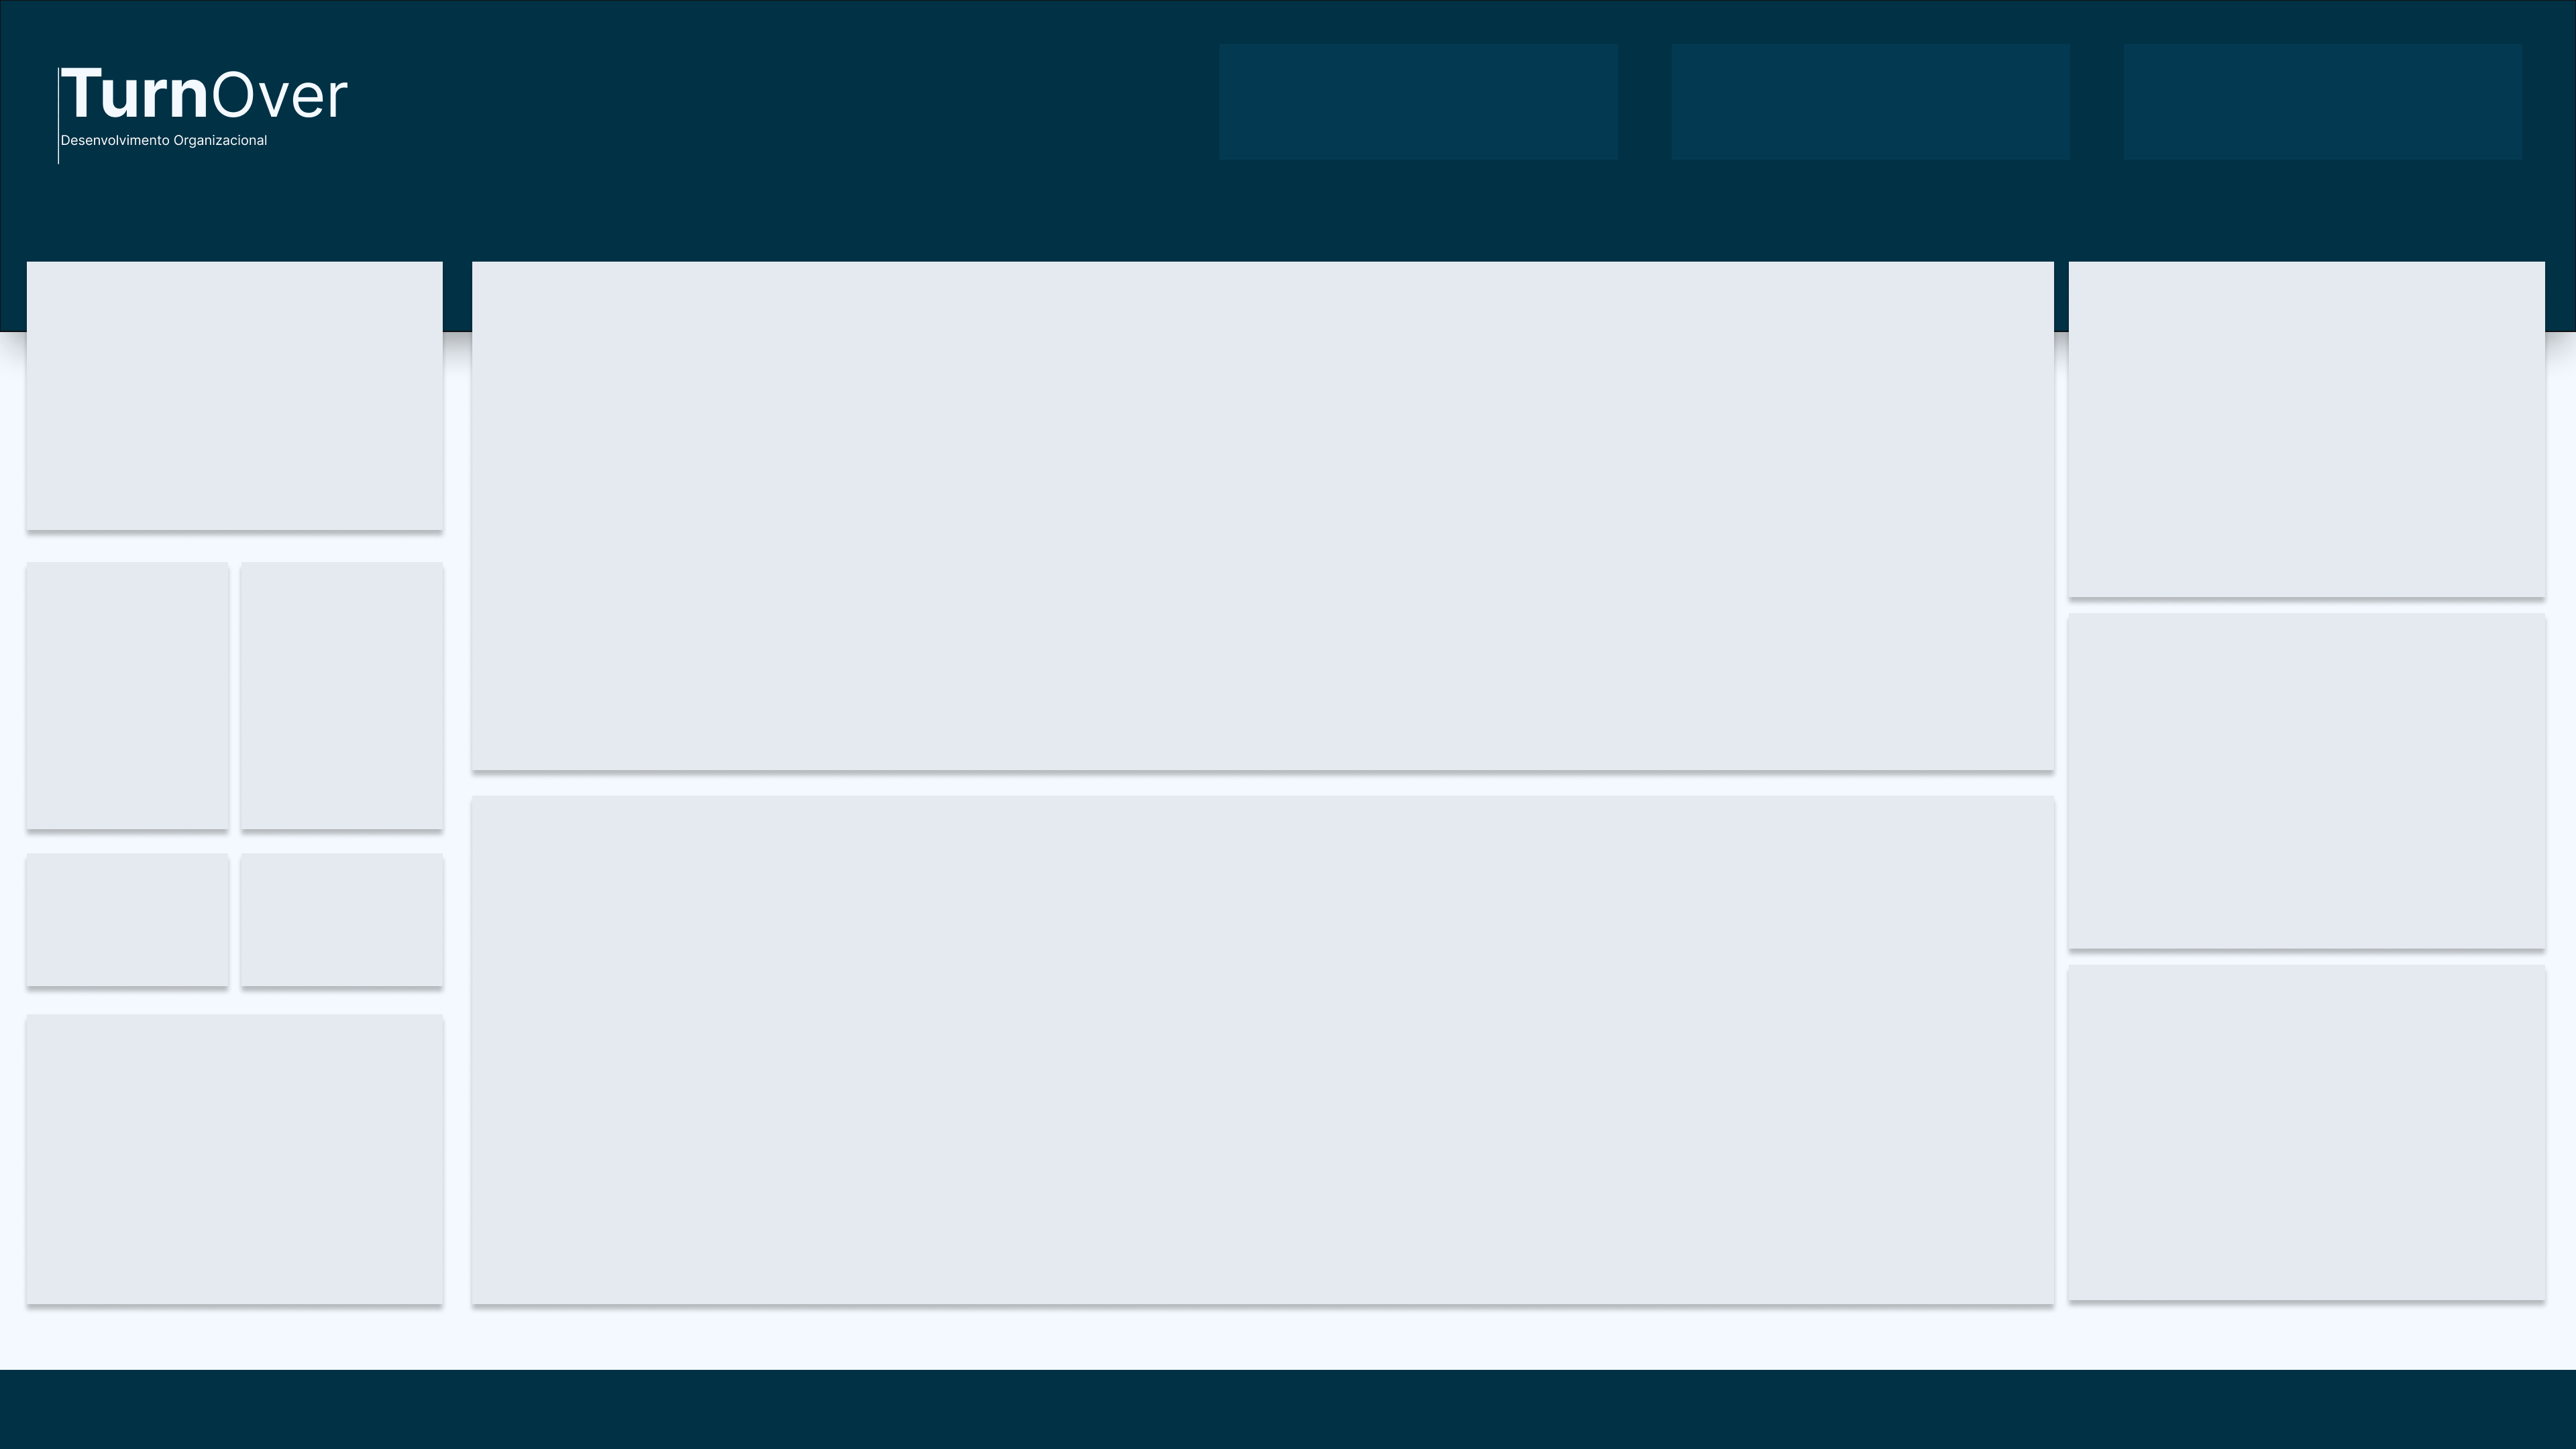

The dashboard page shown, as its layout file describes it:
{"tool":"powerbi","page":{"name":"TurnOver","canvas":[1920,1080],"ordinal":1},"visuals":[{"type":"image","box":[1560,279,304,144],"z":0},{"type":"donutChart","title":"Desligados por Gênero","fields":{"Category":["Base TurnOver.Gênero"],"Y":["Medidas.Side Total Desligados"]},"box":[1536,208,352,240],"z":1000},{"type":"card","title":"HeadCount","fields":{"Values":["Medidas.HeadCount"]},"box":[24,208,296,160],"z":2000},{"type":"card","title":"Contratações Ano","fields":{"Values":["Medidas.Side Total Contratações"]},"box":[32,642,128,90],"z":3000},{"type":"lineClusteredColumnComboChart","title":"Quantidade de Desligados, Contratados e Turn Over no Período","fields":{"Y2":["Medidas.TurnOver Geral Travado","Medidas.TurnOver Geral"],"Y":["Medidas.Total_Desligados","Medidas.Total_Contratações"],"Category":["dCalendário.Ordem","dCalendário.NmMeses"]},"box":[352,208,1184,368],"z":4000},{"type":"funnel","title":"Desligados por Faixa Etária","fields":{"Category":["Base TurnOver.Faixa Etária"],"Y":["Medidas.Side Total Desligados"]},"box":[1552,464,336,240],"z":6000},{"type":"slicer","fields":{"Values":["Base TurnOver.Setor"]},"box":[1250.4,32,288,80],"z":7000},{"type":"slicer","fields":{"Values":["Base TurnOver.Tipo Liderança"]},"box":[1586.4,32,288,80],"z":8000},{"type":"gauge","title":"TurnOver","fields":{"Y":["Medidas.Main TurnOver"]},"box":[32,768,288,192],"z":9000},{"type":"lineStackedColumnComboChart","title":"Tipos de Desligamentos e Taxa de Desligamento no Período","fields":{"Category":["dCalendário.Ordem","dCalendário.NmMeses"],"Y":["Medidas.Desligamentos Involuntário","Medidas.Desligamentos Voluntários"],"Y2":["Medidas.Taxa de Desligados"]},"box":[352,595,1176,368],"z":10000},{"type":"clusteredBarChart","title":"Desligados por Faixa Tempo de Casa","fields":{"Category":["Base TurnOver.Faixa Tempo de Casa"],"Y":["Medidas.Side Total Desligados"]},"box":[1552,720,336,240],"z":11000},{"type":"actionButton","box":[16,32,256,96],"z":12000},{"type":"card","title":"Contratações","fields":{"Values":["Medidas.Main Total Contratações"]},"box":[16,448,160,160],"z":13000},{"type":"card","title":"Desligamentos Mês","fields":{"Values":["Medidas.Main Total Desligados"]},"box":[176,448,160,160],"z":14000},{"type":"card","title":"Contratações Ano","fields":{"Values":["Medidas.Side Total Desligados"]},"box":[192,642,128,90],"z":15000},{"type":"slicer","fields":{"Values":["Base TurnOver.Diretoria"]},"box":[912,32,288,80],"z":16000}]}

Visuals, with their boxes in screenshot pixels (x1, y1, x2, y2), scaled from the page's 1920x1080 canvas onto the 2576x1449 screenshot:
image: [x1=2093, y1=374, x2=2501, y2=568]
"Desligados por Gênero" donutChart: [x1=2061, y1=279, x2=2533, y2=601]
"HeadCount" card: [x1=32, y1=279, x2=429, y2=494]
"Contratações Ano" card: [x1=43, y1=861, x2=215, y2=982]
"Quantidade de Desligados, Contratados e Turn Over no Período" lineClusteredColumnComboChart: [x1=472, y1=279, x2=2061, y2=773]
"Desligados por Faixa Etária" funnel: [x1=2082, y1=623, x2=2533, y2=945]
slicer - Base TurnOver.Setor: [x1=1678, y1=43, x2=2064, y2=150]
slicer - Base TurnOver.Tipo Liderança: [x1=2129, y1=43, x2=2515, y2=150]
"TurnOver" gauge: [x1=43, y1=1030, x2=429, y2=1288]
"Tipos de Desligamentos e Taxa de Desligamento no Período" lineStackedColumnComboChart: [x1=472, y1=798, x2=2050, y2=1292]
"Desligados por Faixa Tempo de Casa" clusteredBarChart: [x1=2082, y1=966, x2=2533, y2=1288]
actionButton: [x1=21, y1=43, x2=365, y2=172]
"Contratações" card: [x1=21, y1=601, x2=236, y2=816]
"Desligamentos Mês" card: [x1=236, y1=601, x2=451, y2=816]
"Contratações Ano" card: [x1=258, y1=861, x2=429, y2=982]
slicer - Base TurnOver.Diretoria: [x1=1224, y1=43, x2=1610, y2=150]
